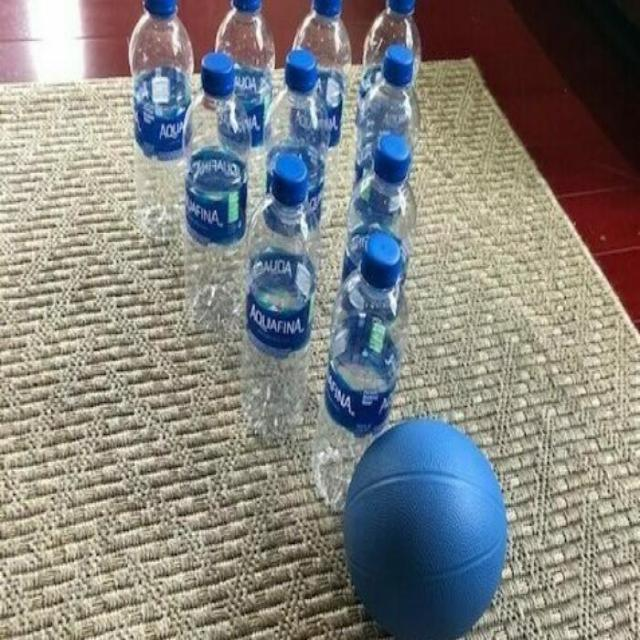bottle: (324, 225, 406, 511), (240, 147, 316, 450), (176, 52, 248, 338), (126, 0, 182, 248), (351, 40, 433, 132), (259, 49, 337, 140), (348, 135, 425, 220), (358, 0, 426, 82), (285, 0, 353, 58), (210, 0, 276, 50)
